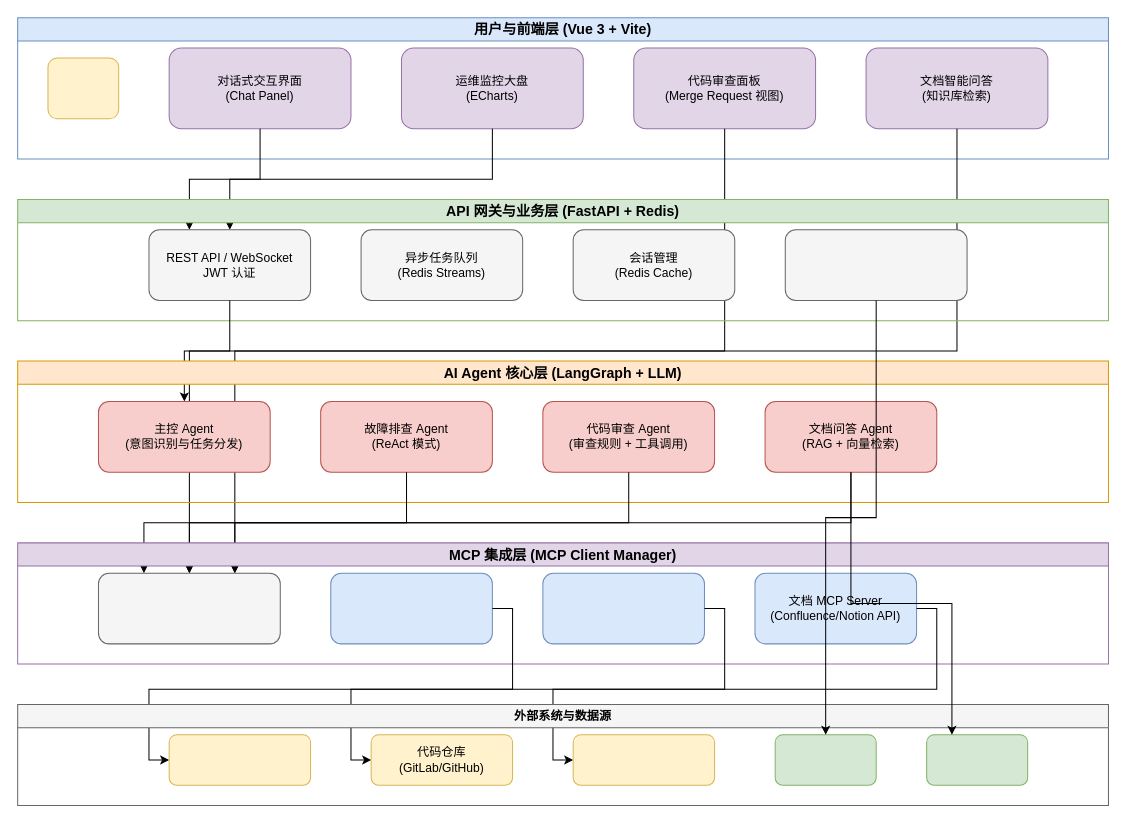
The diagram is 1126 pixels wide and 823 high, and some of its shapes have lost their labels. The shapes that lost their labels are listed below. From the top down, each one's centre as x and y in pixels, then its label:
(x=83, y=88): 用户
(x=875, y=264): 业务服务 (用户/项目/Agent配置)
(x=188, y=608): MCP 管理器 (服务发现、连接池、重试)
(x=411, y=608): 监控 MCP Server (Prometheus API)
(x=623, y=608): Git MCP Server (GitLab/GitHub API)
(x=239, y=759): 监控系统 (Prometheus/Grafana)
(x=643, y=759): 文档系统 (Confluence/Notion)
(x=825, y=759): MySQL (业务数据)
(x=977, y=759): Milvus (向量存储)
